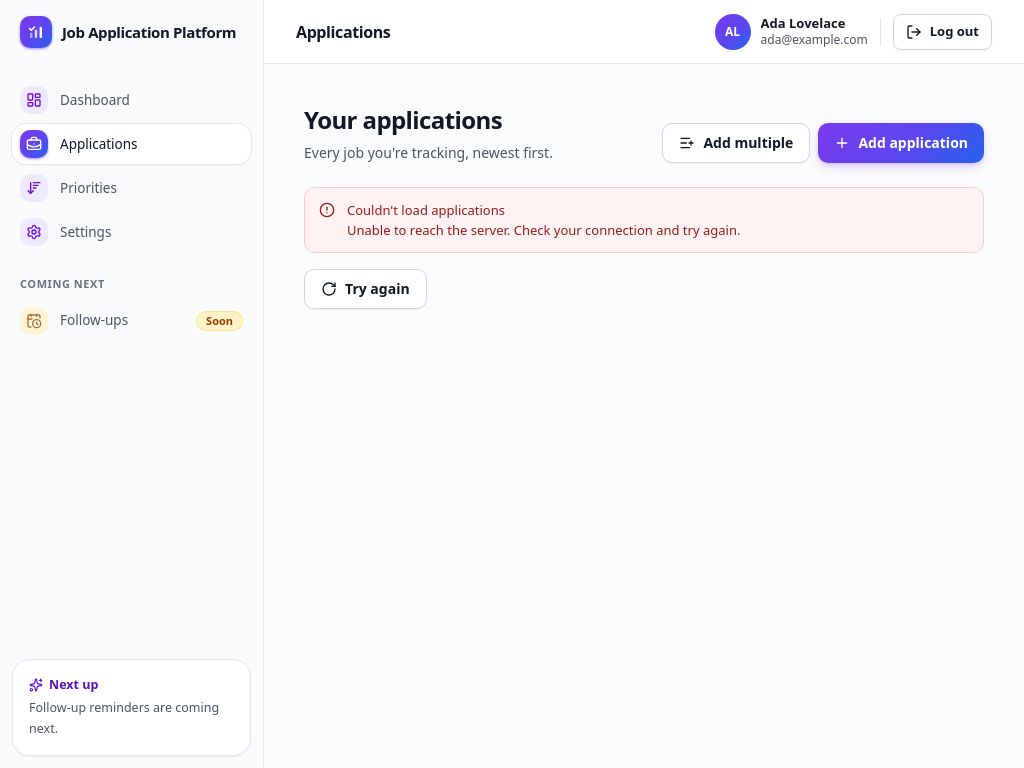
Test: Applications page: errors › network failure shows an error with a working retry
Expected: the message shows "Couldn't load applications", x1=347 y1=201 x2=505 y2=219
Expected: the message shows "Unable to reach the server", x1=347 y1=221 x2=740 y2=239
Click the button "Try again": (365, 289) x1=304 y1=269 x2=427 y2=309
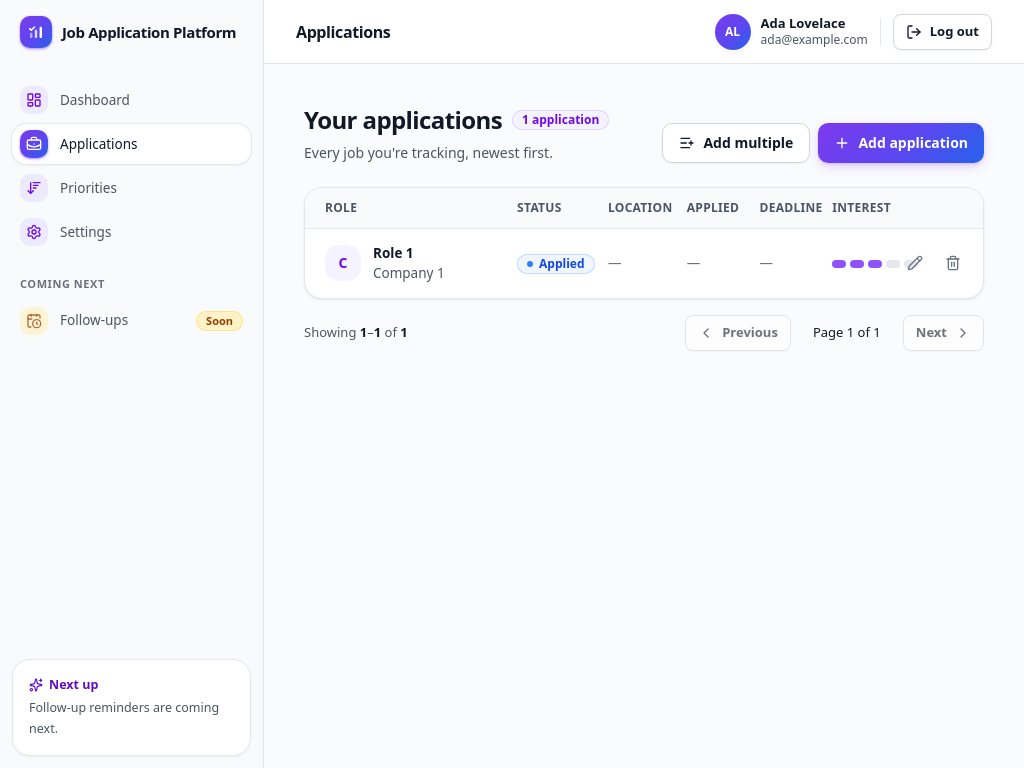
Expected: the element with test id "applications-table" is shown, x1=304 y1=187 x2=984 y2=298
Expected: the message is gone
